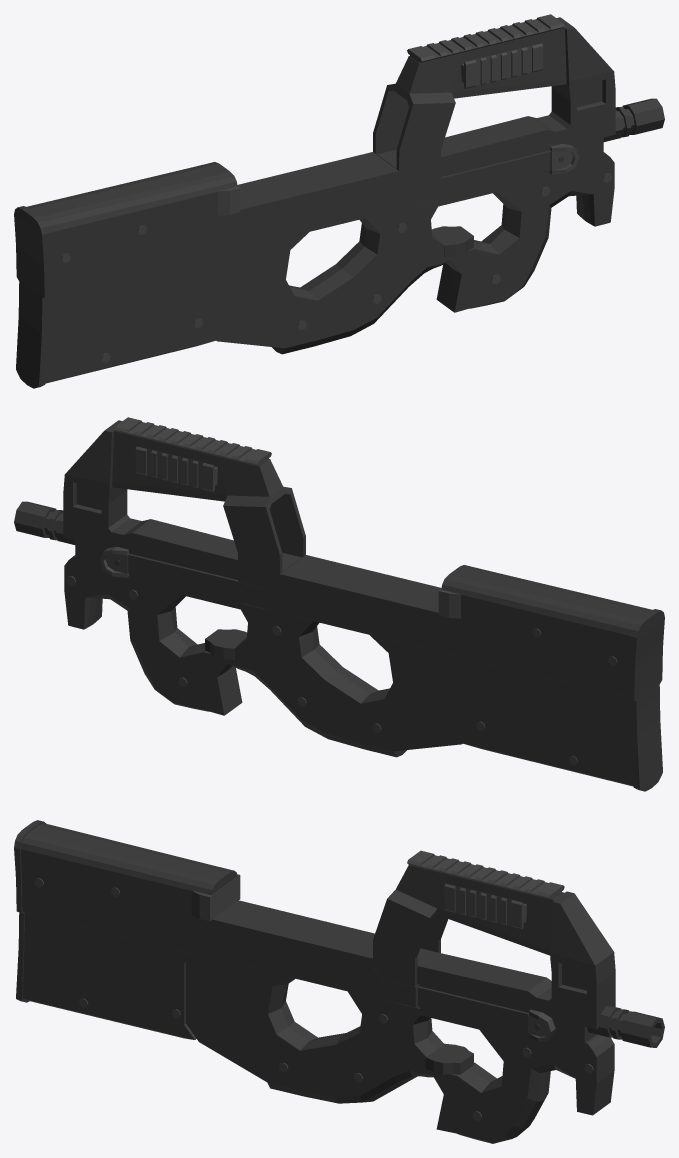
The model's file is SMG4_01.fbx.
The picture shows the model from 3 angles, top to bottom: view 1: azimuth 30°, elevation 25°; view 2: azimuth 150°, elevation 25°; view 3: azimuth 330°, elevation 25°; orthographic projection.
Visible parts, largest first — view 1: SMG4_01; view 2: SMG4_01; view 3: SMG4_01.
Boxes of the visible parts, x1,y1,x2,y2 form: SMG4_01: (14, 14, 664, 388); SMG4_01: (14, 417, 664, 791); SMG4_01: (14, 820, 664, 1143).
Size of the model in its own units: 0.6062 by 0.244 by 0.0506.
